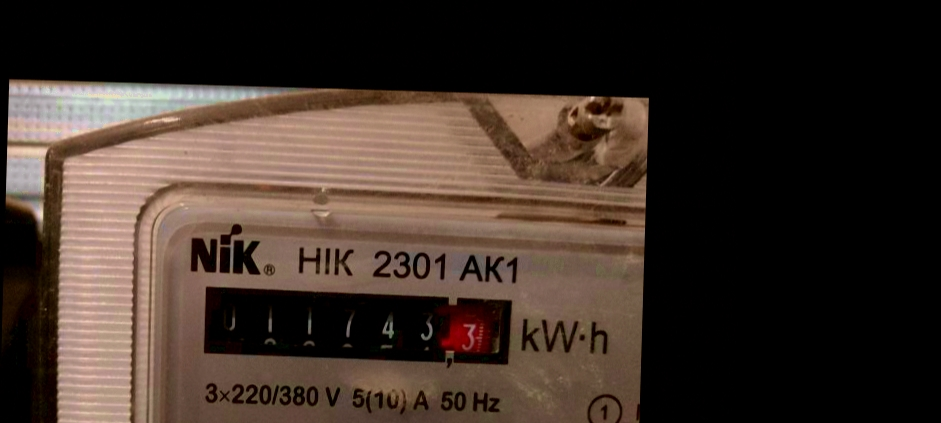0: (218, 297, 238, 334)
1: (301, 300, 317, 335), (264, 299, 275, 333)
3: (414, 307, 434, 342), (458, 320, 477, 354)
4: (378, 306, 395, 340)
7: (339, 304, 358, 338)
screen: (188, 273, 524, 377)
